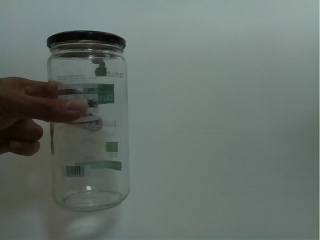pote cristal: (43, 29, 136, 214)
